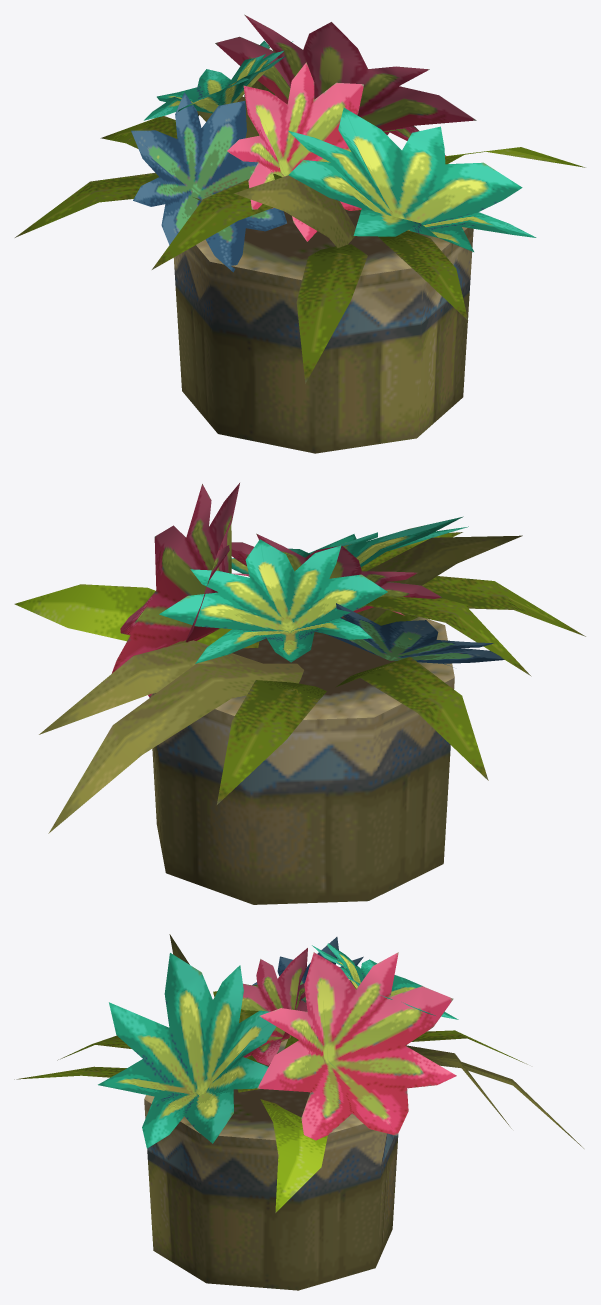
The model's file is shrine_plant010_02.FBX.
The picture shows the model from 3 angles, top to bottom: view 1: azimuth 30°, elevation 25°; view 2: azimuth 150°, elevation 25°; view 3: azimuth 270°, elevation 25°; orthographic projection. The views are drawn at different scales.
Visible parts, largest first — view 1: shrine_plant010_02; view 2: shrine_plant010_02; view 3: shrine_plant010_02.
Part boxes in pixels (x1,y1,x2,y2): shrine_plant010_02: (15, 14, 585, 453); shrine_plant010_02: (14, 483, 585, 904); shrine_plant010_02: (14, 934, 583, 1290).
Size of the model in its own units: 116 by 75.82 by 130.
1 material, 1 textured.
